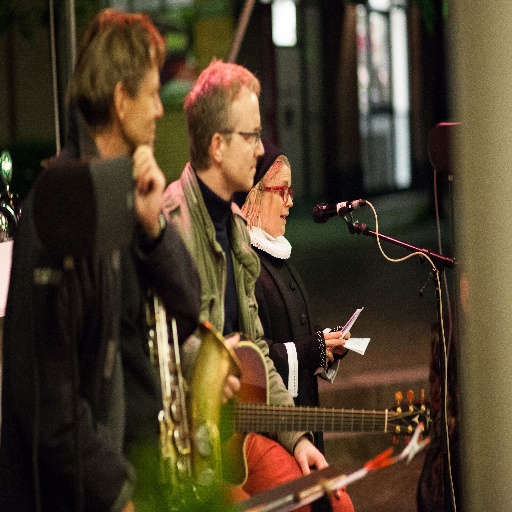hand: (293, 437, 346, 498), (121, 138, 164, 209), (224, 331, 241, 407), (322, 330, 345, 372), (333, 329, 351, 356), (122, 496, 135, 511)
